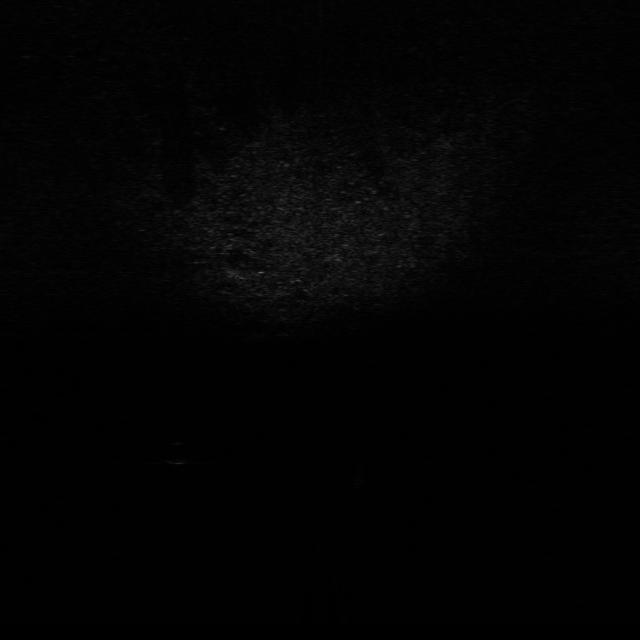ball: (158, 439, 198, 465)
